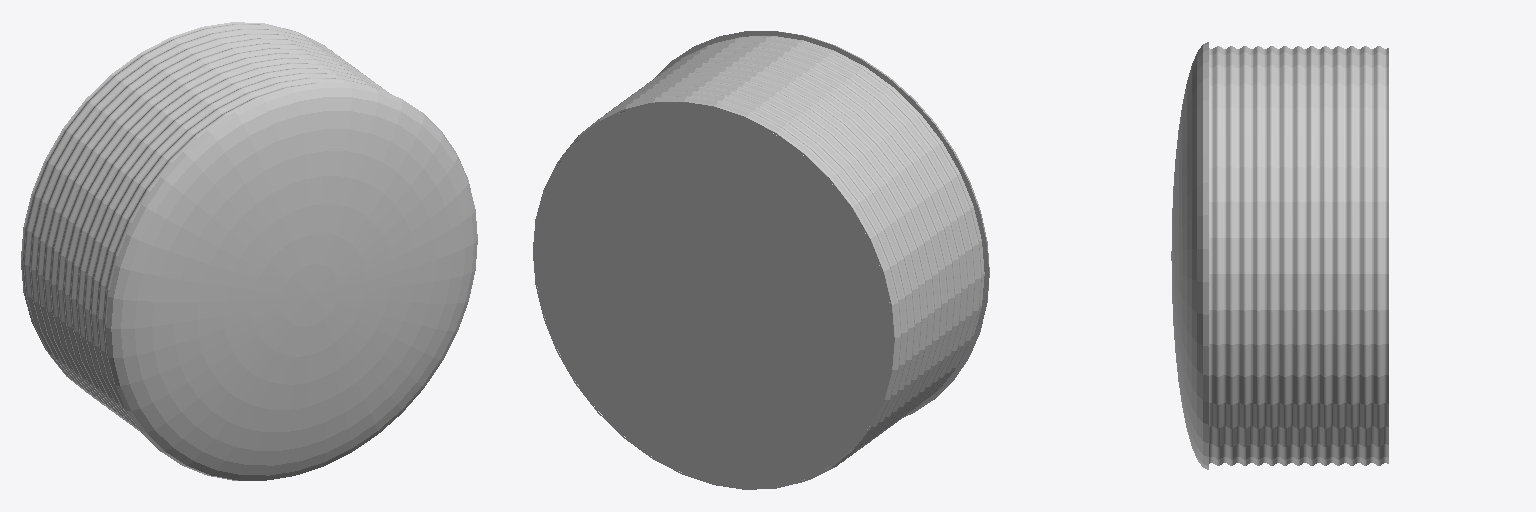
File: Tankworks_Stockman.obj
The picture shows the model from 3 angles: view 1: azimuth 30°, elevation 25°; view 2: azimuth 150°, elevation 25°; view 3: azimuth 270°, elevation 25°; orthographic projection.
Visible parts, largest first — view 1: g FURNITURELOOSE STAINLESS_STEEL SMOOTH_PART; view 2: g FURNITURELOOSE STAINLESS_STEEL FLAT_PART, g FURNITURELOOSE STAINLESS_STEEL SMOOTH_PART; view 3: g FURNITURELOOSE STAINLESS_STEEL SMOOTH_PART.
Part boxes in pixels (left/top/right/bottom): g FURNITURELOOSE STAINLESS_STEEL SMOOTH_PART: left=21, top=22, right=477, bottom=480; g FURNITURELOOSE STAINLESS_STEEL FLAT_PART: left=533, top=31, right=988, bottom=489; g FURNITURELOOSE STAINLESS_STEEL SMOOTH_PART: left=537, top=31, right=989, bottom=486; g FURNITURELOOSE STAINLESS_STEEL SMOOTH_PART: left=1171, top=42, right=1388, bottom=469.
Size of the model in its own units: 2440 by 2440 by 1236.